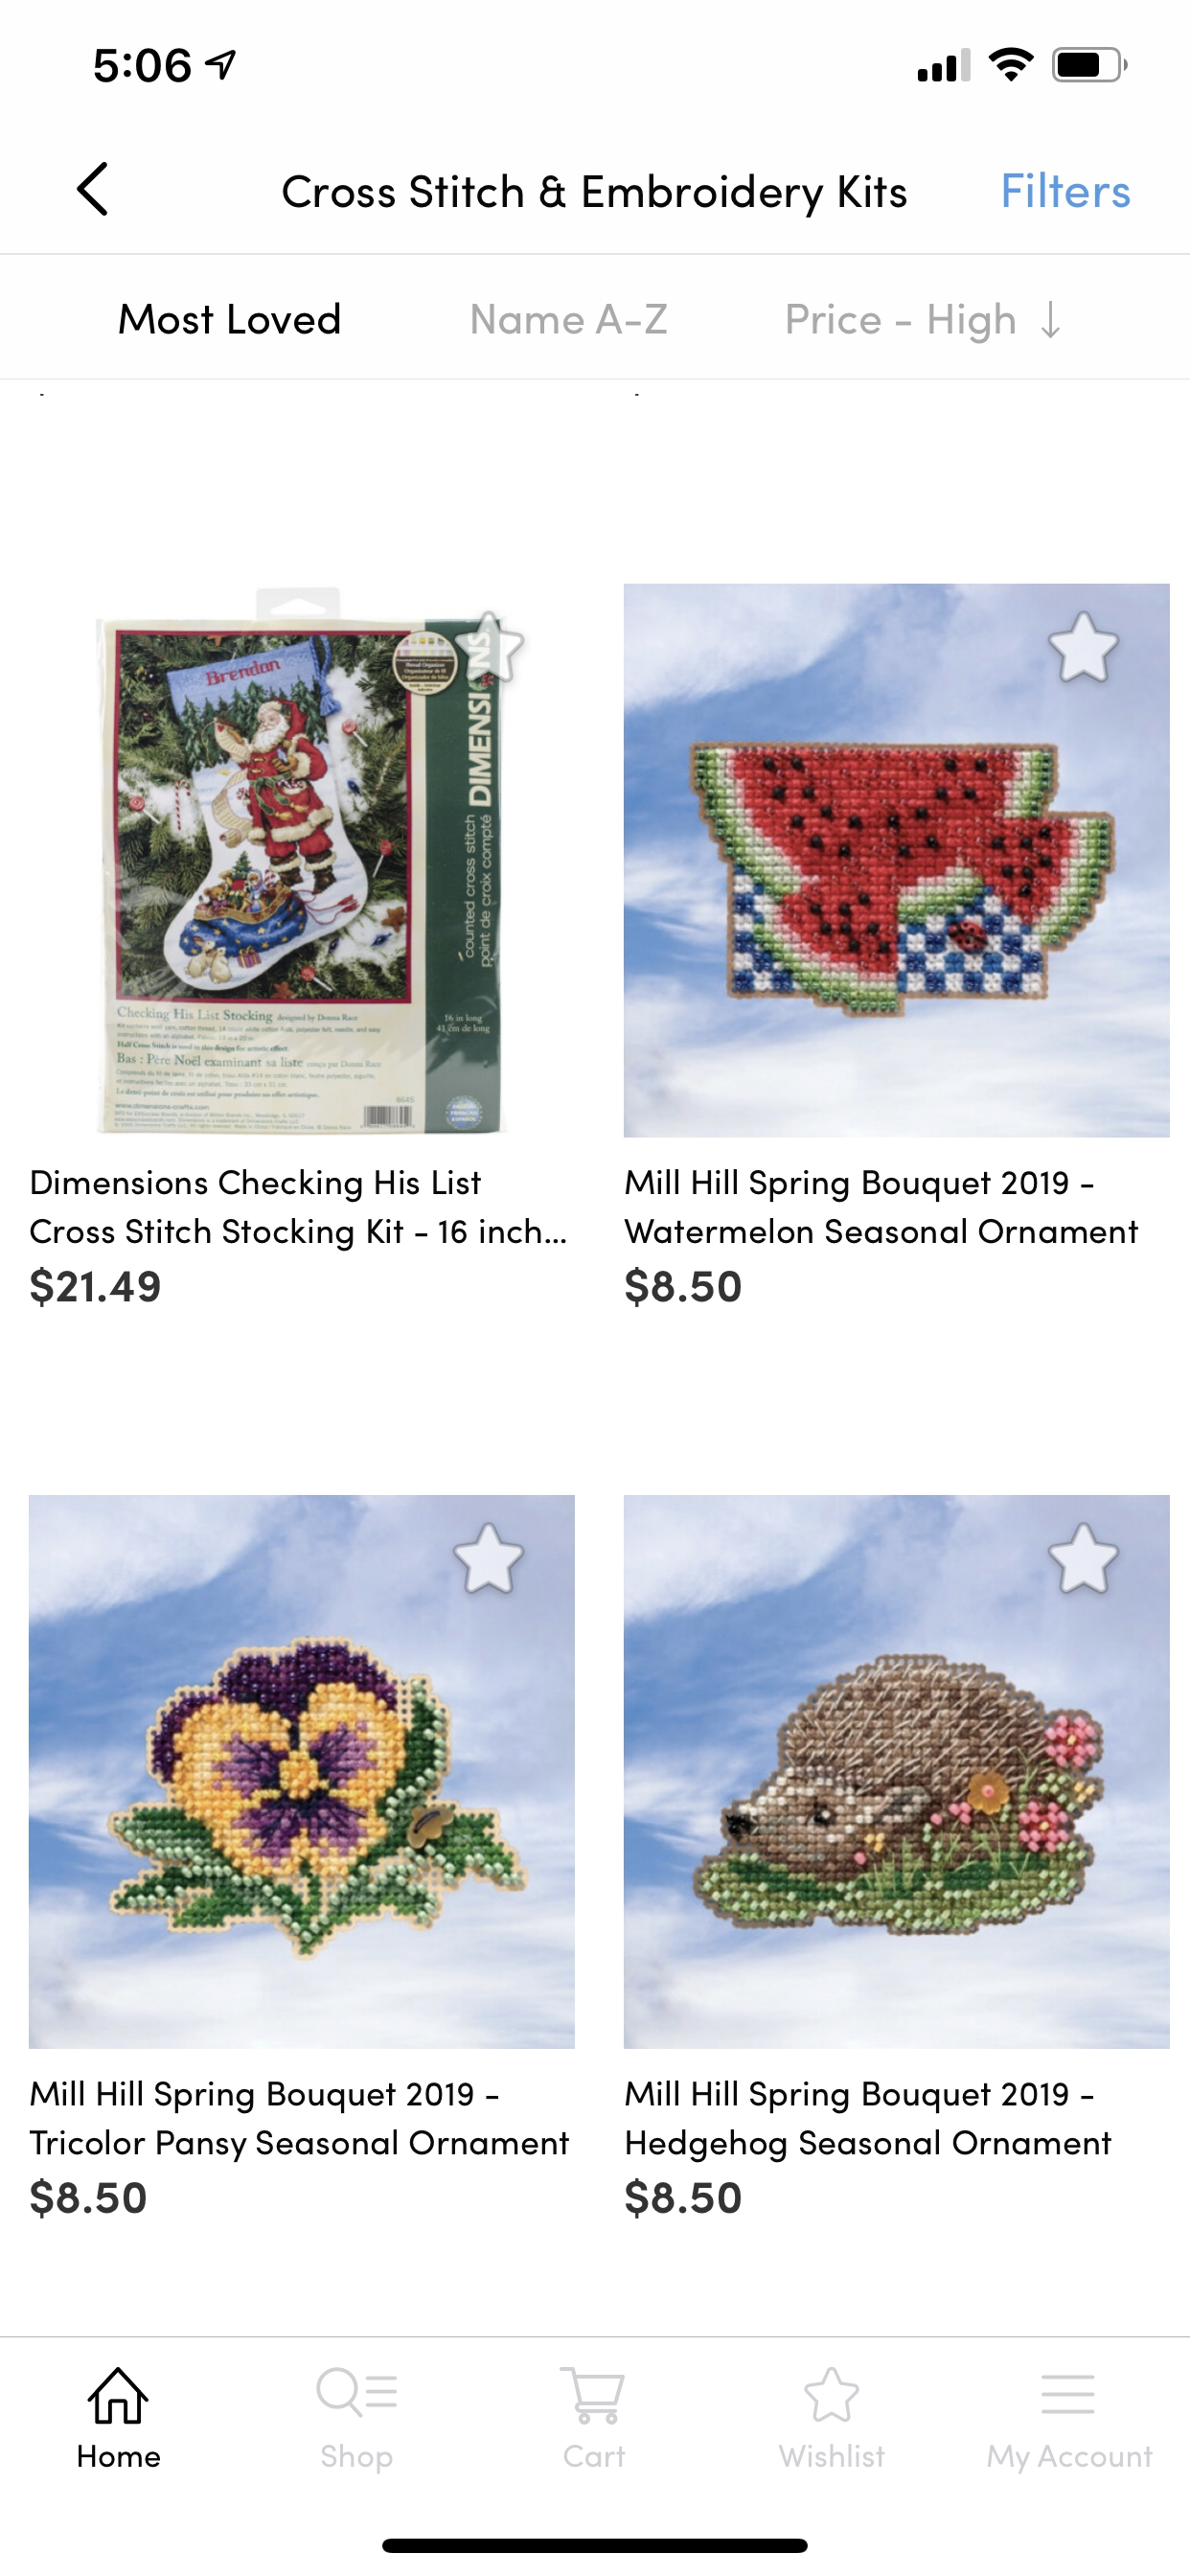Icon: (452, 1521, 524, 1595), (1047, 1521, 1119, 1594), (1047, 611, 1119, 683), (454, 611, 524, 683), (316, 2366, 398, 2418), (559, 2366, 625, 2425), (89, 2367, 150, 2425), (804, 2366, 860, 2422), (1042, 2374, 1095, 2413), (77, 163, 108, 217), (1040, 301, 1060, 338)
Image: (623, 1495, 1170, 2049), (28, 1495, 575, 2049), (623, 583, 1170, 1137), (97, 588, 506, 1135)
Text: (30, 2080, 569, 2164), (626, 2080, 1111, 2164), (30, 1170, 567, 1244), (623, 1170, 1139, 1244), (283, 174, 906, 218), (787, 302, 1014, 345), (118, 302, 340, 335), (472, 304, 667, 335), (31, 1267, 161, 1308), (986, 2445, 1152, 2474), (1003, 171, 1131, 209), (626, 2177, 741, 2218), (626, 1267, 741, 1308), (31, 2178, 146, 2218), (777, 2443, 886, 2468), (321, 2443, 393, 2474), (79, 2445, 159, 2468), (564, 2445, 626, 2468)
UpperTaskBar: (94, 48, 1128, 84)
